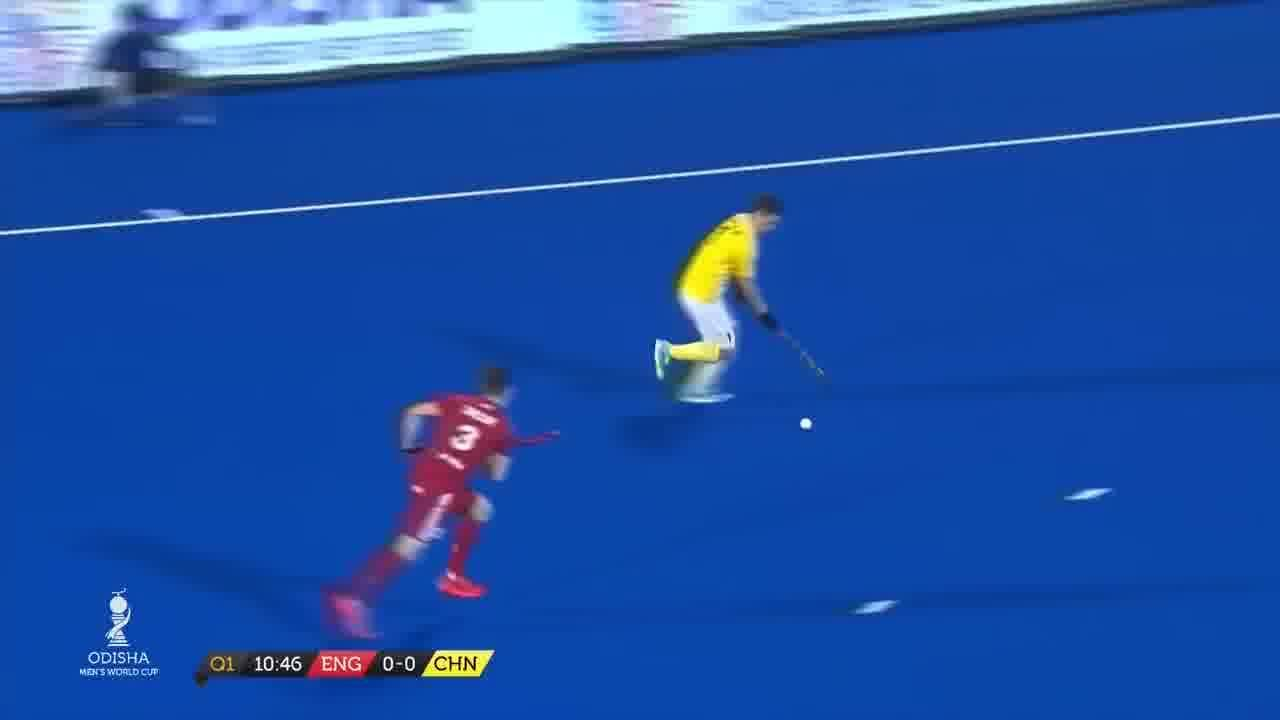ball: (800, 414, 810, 436)
